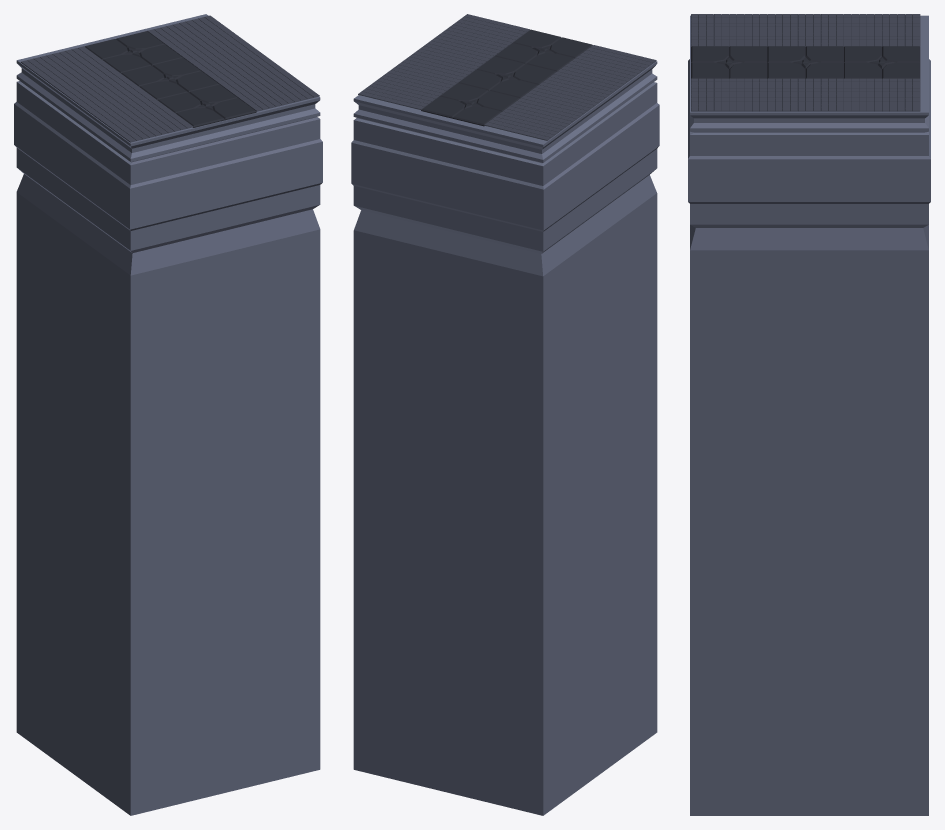
The model's file is block_b.fbx.
3 renders of one model, left to right at view 1: azimuth 30°, elevation 25°; view 2: azimuth 150°, elevation 25°; view 3: azimuth 270°, elevation 25°, orthographic. The views are drawn at different scales.
Visible parts, largest first — view 1: 02, Cube.110, Cube.111, Cube.109, Cube.120, Cube.117, Cube.118, Cube.115, Cube.119, Cube.116; view 2: 02, Cube.119, Cube.120, Cube.118, Cube.111, Cube.117, Cube.109, Cube.115, Cube.110, Cube.116; view 3: 02, Cube.109, Cube.118, Cube.115, Cube.111, Cube.117, Cube.120, Cube.119, Cube.110, Cube.116.
Part boxes in pixels (box(x1,y1,x2,y2)): 02: box(14, 14, 322, 815); Cube.110: box(157, 84, 256, 127); Cube.111: box(94, 100, 193, 142); Cube.109: box(220, 69, 319, 111); Cube.120: box(20, 46, 119, 88); Cube.117: box(57, 73, 156, 115); Cube.118: box(147, 15, 246, 57); Cube.115: box(184, 42, 282, 84); Cube.119: box(84, 31, 182, 73); Cube.116: box(121, 58, 219, 99); 02: box(351, 61, 659, 815); Cube.119: box(421, 83, 519, 126); Cube.120: box(484, 98, 583, 140); Cube.118: box(358, 67, 457, 109); Cube.111: box(557, 45, 656, 87); Cube.117: box(521, 71, 619, 113); Cube.109: box(431, 14, 530, 56); Cube.115: box(394, 41, 493, 82); Cube.110: box(495, 29, 592, 71); Cube.116: box(458, 56, 556, 98); 02: box(688, 15, 930, 815); Cube.109: box(691, 78, 767, 111); Cube.118: box(844, 78, 920, 111); Cube.115: box(767, 78, 843, 111); Cube.111: box(691, 14, 767, 46); Cube.117: box(767, 14, 843, 46); Cube.120: box(844, 14, 920, 46); Cube.119: box(844, 46, 920, 78); Cube.110: box(691, 46, 767, 78); Cube.116: box(767, 46, 843, 78).
Bounding box in the file's own units: 609 × 2040 × 635.
